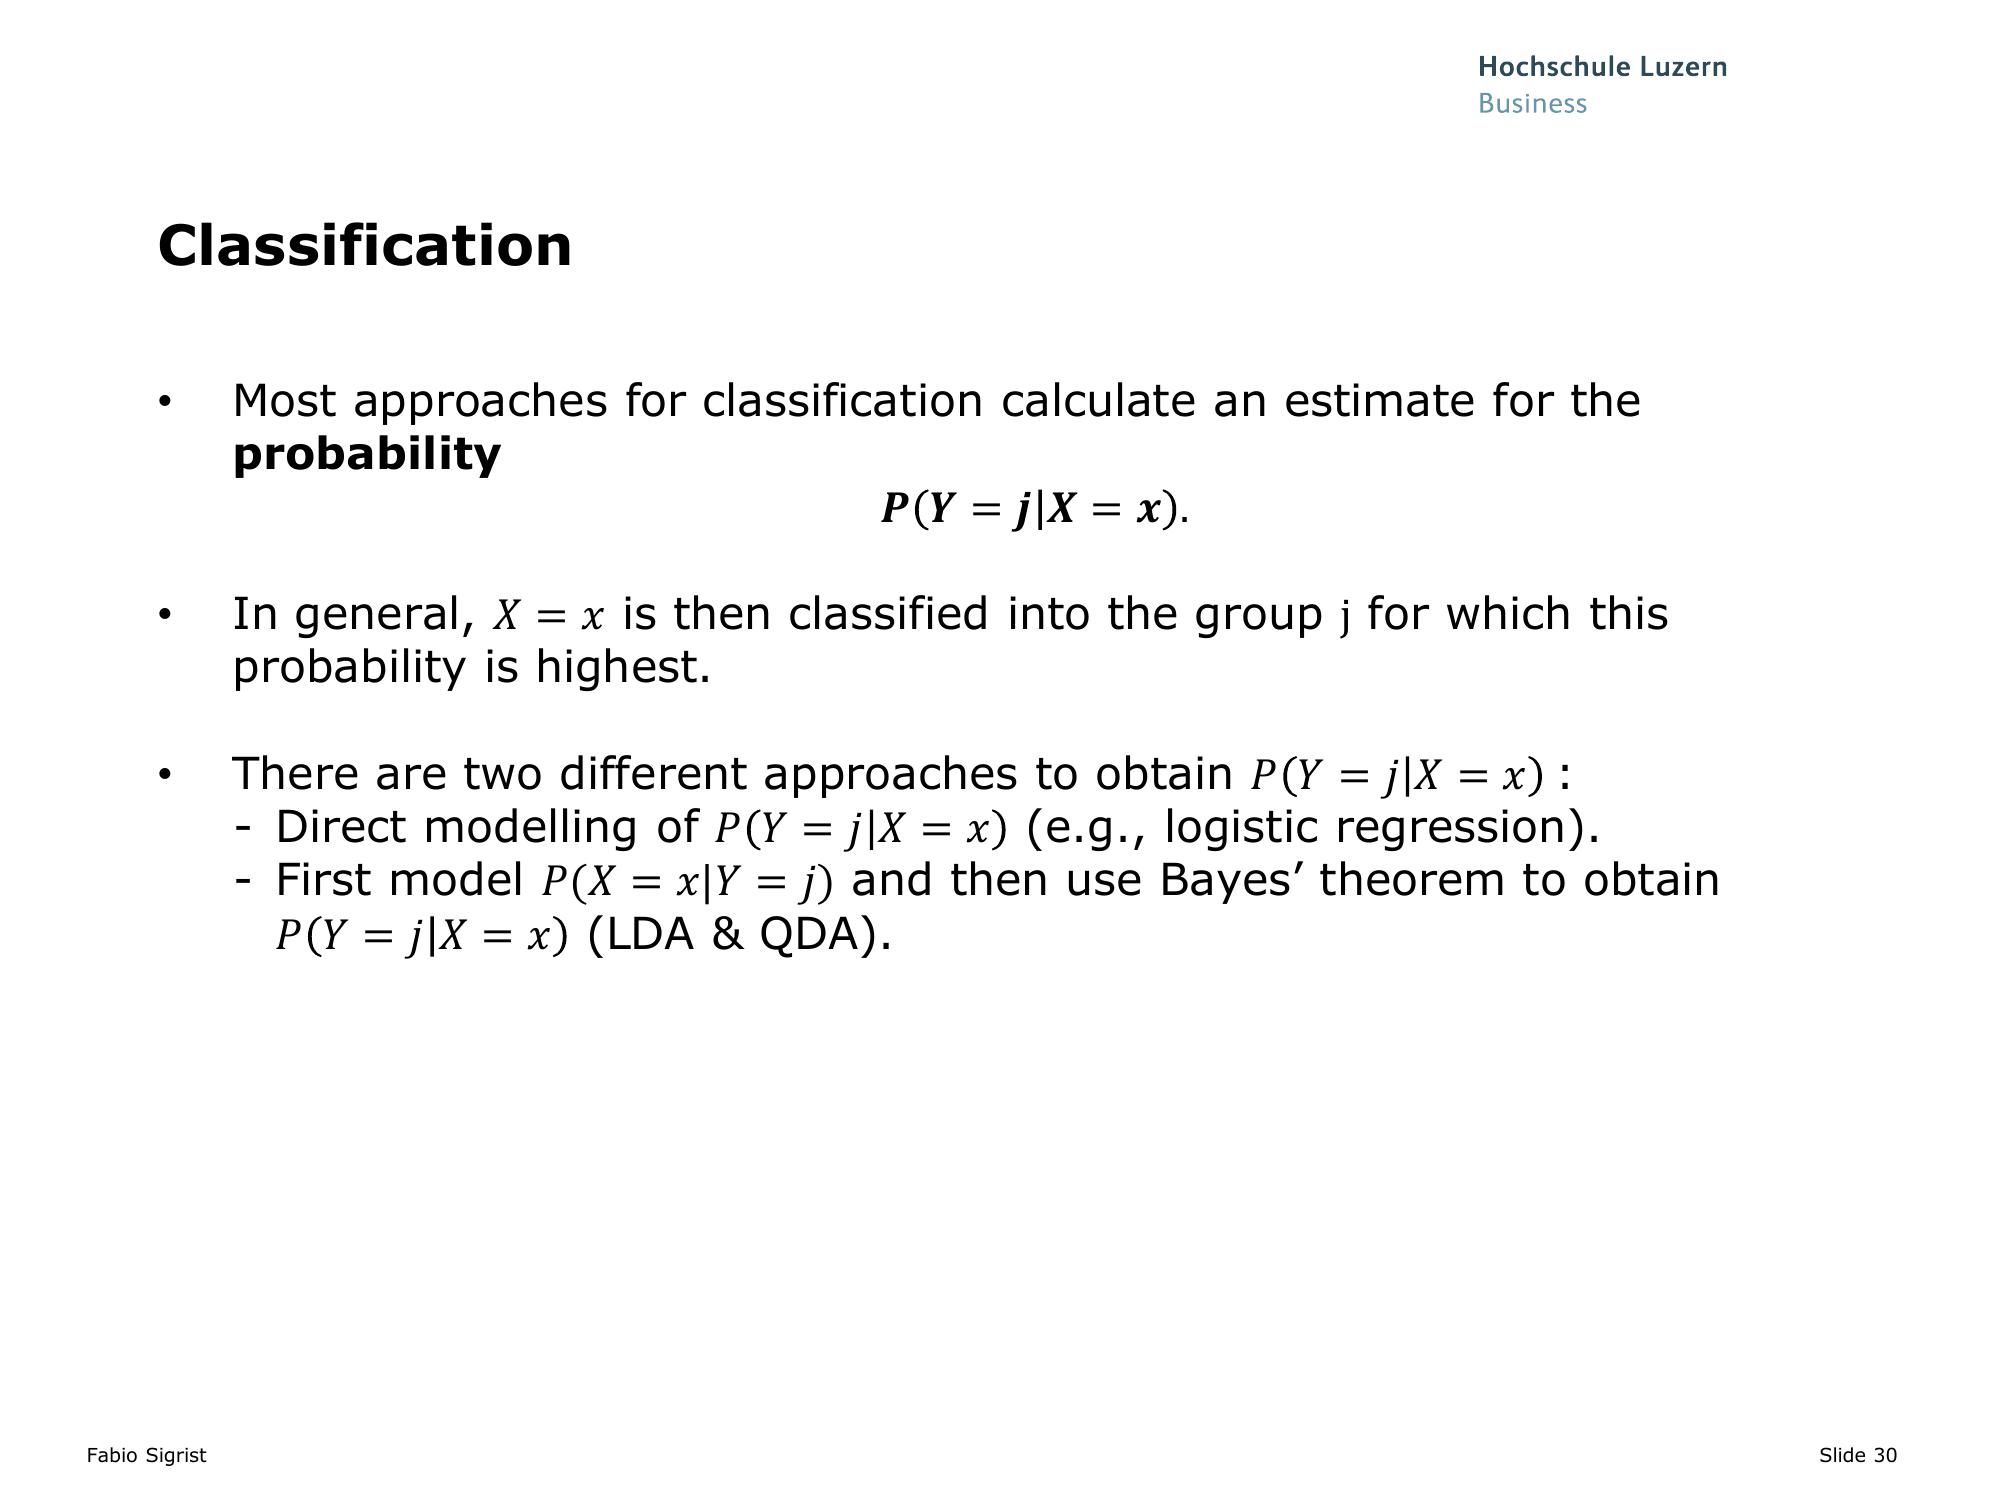Title: (109, 203, 602, 291)
